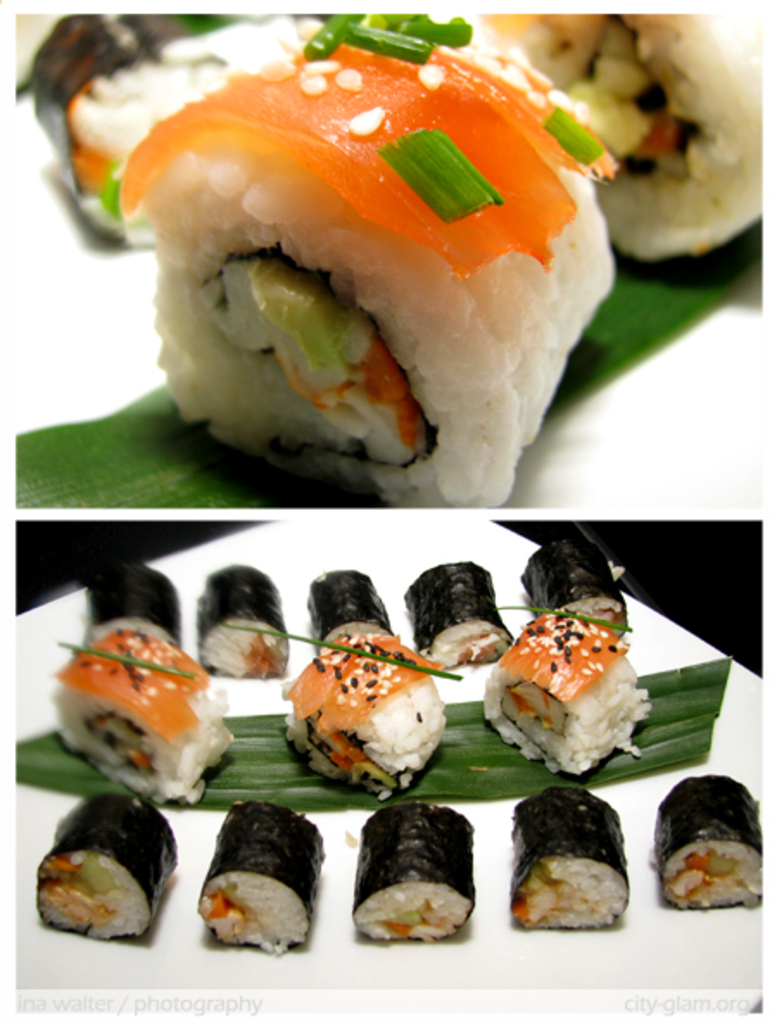sushi: (67, 0, 625, 511), (50, 537, 654, 798), (494, 16, 772, 268), (22, 21, 307, 240), (35, 796, 178, 939), (193, 801, 319, 957), (506, 782, 630, 927), (345, 800, 473, 939), (651, 775, 761, 903)
